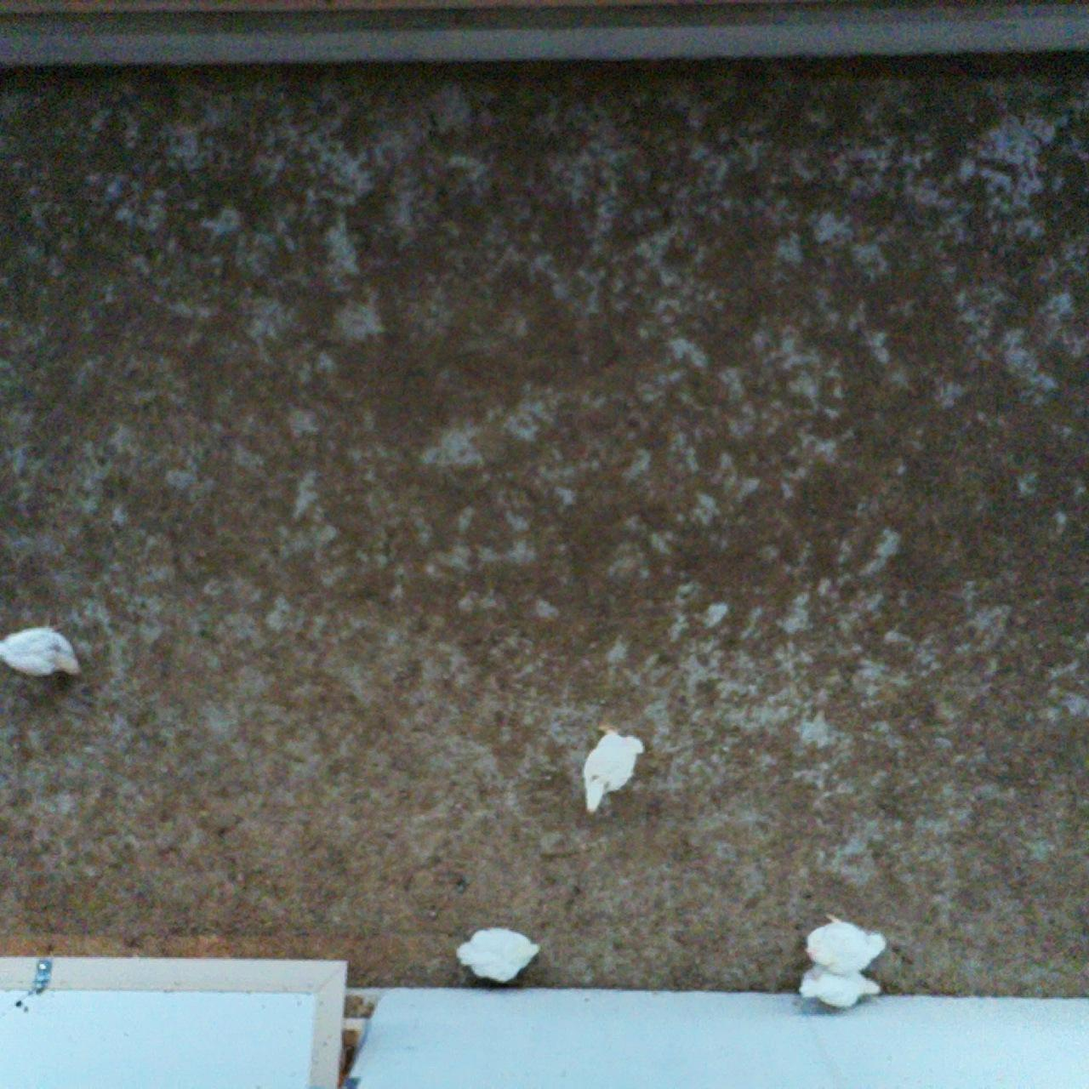chicken: (580, 713, 653, 822), (449, 919, 553, 989), (796, 910, 892, 979), (0, 619, 88, 682), (796, 952, 888, 1011)
